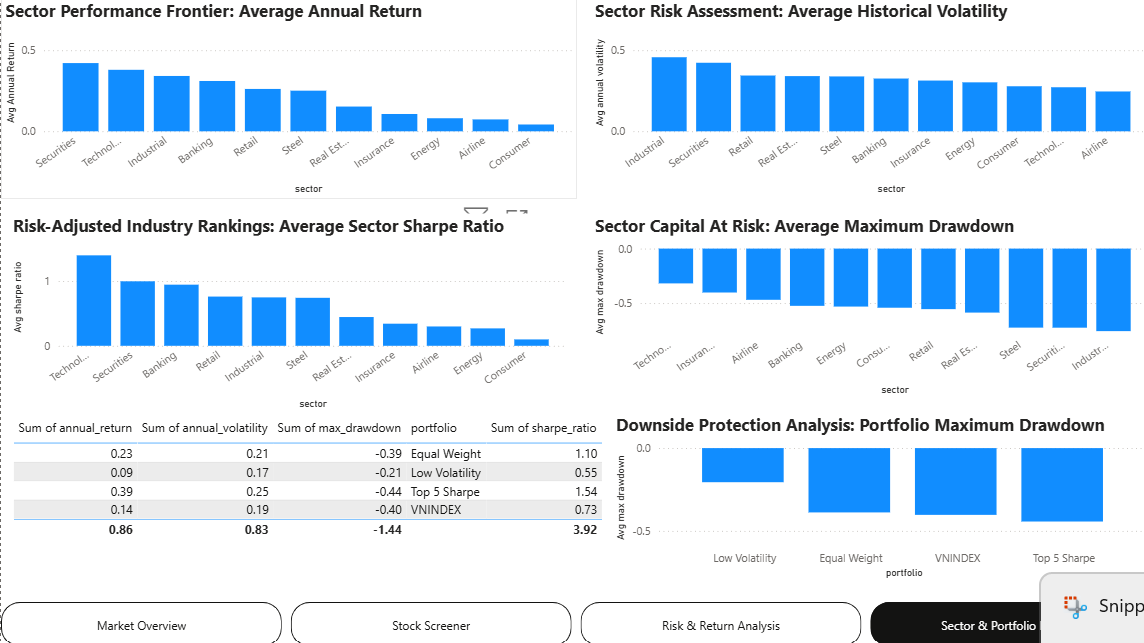

Layout of this report page (visuals, bound fields, positions):
{"tool":"powerbi","page":{"name":"Sector & Portfolio Insights","canvas":[1280,720],"ordinal":3},"visuals":[{"type":"pageNavigator","box":[0,670,1280,50],"z":0},{"type":"clusteredColumnChart","title":"Sector Performance Frontier: Average Annual Return","fields":{"Y":["Avg(sector_metrics.avg_annual_return)"],"Category":["sector_metrics.sector"]},"box":[0,0,640,221.7],"z":1},{"type":"clusteredColumnChart","title":"Sector Risk Assessment: Average Historical Volatility","fields":{"Category":["sector_metrics.sector"],"Y":["Avg(sector_metrics.avg_volatility)"]},"box":[655,0,625,221.7],"z":2},{"type":"clusteredColumnChart","title":"Risk-Adjusted Industry Rankings: Average Sector Sharpe Ratio","fields":{"Category":["sector_metrics.sector"],"Y":["Avg(sector_metrics.avg_sharpe)"]},"box":[8.3,238.3,625,221.7],"z":3},{"type":"clusteredColumnChart","title":"Sector Capital At Risk: Average Maximum Drawdown","fields":{"Category":["sector_metrics.sector"],"Y":["Avg(sector_metrics.avg_drawdown)"]},"box":[655,238.3,625,206.7],"z":4},{"type":"tableEx","fields":{"Values":["Sum(portfolio_metrics.annual_return)","Sum(portfolio_metrics.annual_volatility)","Sum(portfolio_metrics.max_drawdown)","portfolio_metrics.portfolio","Sum(portfolio_metrics.sharpe_ratio)"]},"box":[8.3,460,670,188.3],"z":5},{"type":"clusteredColumnChart","title":"Downside Protection Analysis: Portfolio Maximum Drawdown","fields":{"Category":["portfolio_metrics.portfolio"],"Y":["Avg(portfolio_metrics.max_drawdown)"]},"box":[678,460,602,188],"z":6}]}

Visuals, with their boxes on the page's 1280x720 design canvas (x1, y1, x2, y2). These are canvas units, not pixel positions in the 1144x643 screenshot, which may show the page scaled, cropped or inside an application window:
pageNavigator: [x1=0, y1=670, x2=1280, y2=720]
"Sector Performance Frontier: Average Annual Return" clusteredColumnChart: [x1=0, y1=0, x2=640, y2=222]
"Sector Risk Assessment: Average Historical Volatility" clusteredColumnChart: [x1=655, y1=0, x2=1280, y2=222]
"Risk-Adjusted Industry Rankings: Average Sector Sharpe Ratio" clusteredColumnChart: [x1=8, y1=238, x2=633, y2=460]
"Sector Capital At Risk: Average Maximum Drawdown" clusteredColumnChart: [x1=655, y1=238, x2=1280, y2=445]
tableEx - Sum(portfolio_metrics.annual_return) x Sum(portfolio_metrics.annual_volatility): [x1=8, y1=460, x2=678, y2=648]
"Downside Protection Analysis: Portfolio Maximum Drawdown" clusteredColumnChart: [x1=678, y1=460, x2=1280, y2=648]
